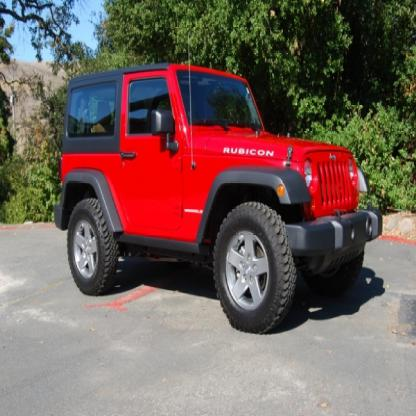Vehicle: (55, 64, 383, 336)
